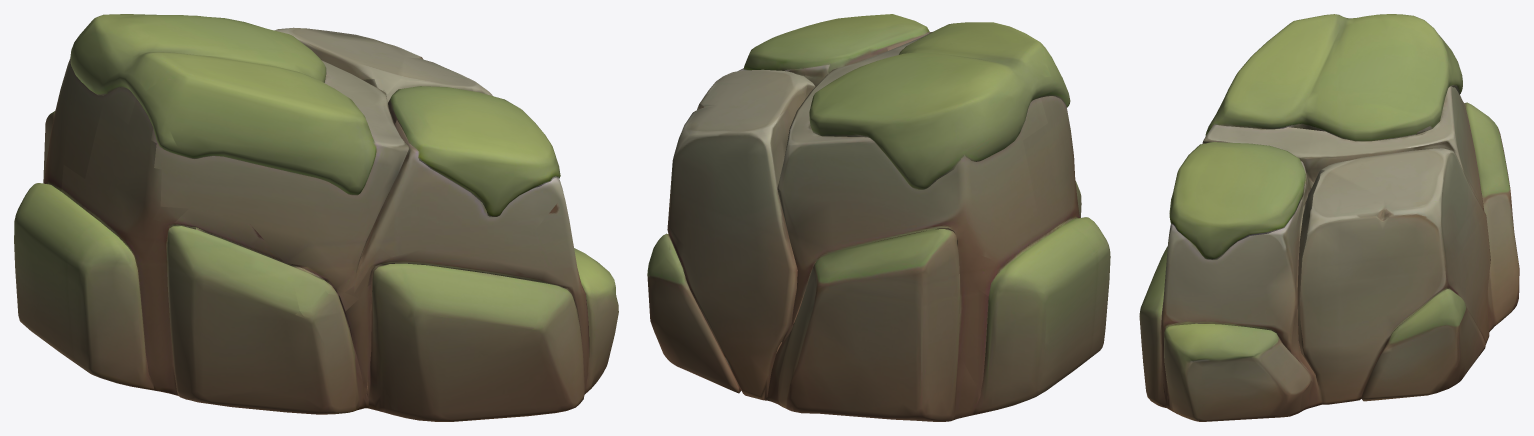
The model's file is Rock_B.fbx.
3 views of the same model, side by side, from view 1: azimuth 30°, elevation 25°; view 2: azimuth 150°, elevation 25°; view 3: azimuth 270°, elevation 25° (orthographic). The views are drawn at different scales.
Visible parts, largest first — view 1: Rock_B; view 2: Rock_B; view 3: Rock_B.
Part boxes in pixels (bbox=[...]): Rock_B: bbox=[14, 14, 618, 421]; Rock_B: bbox=[647, 14, 1110, 421]; Rock_B: bbox=[1139, 14, 1519, 421].
Bounding box in the file's own units: 3 × 2.17 × 2.75.
